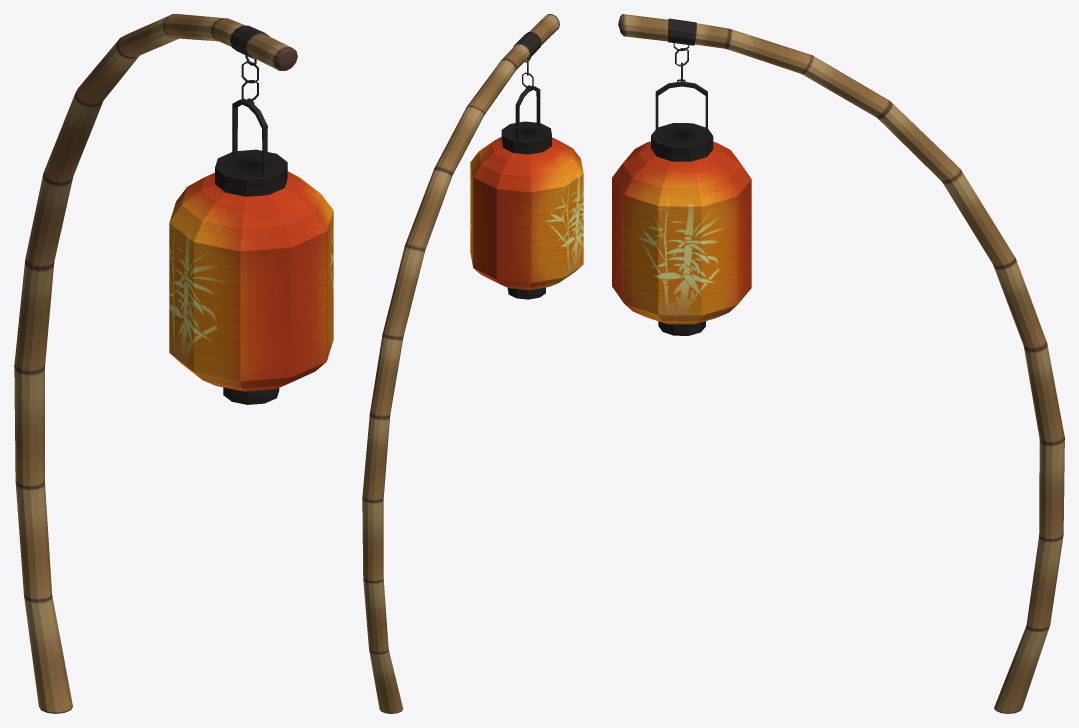
File: japanese_lanterns_01.glb
3 renders of one model, left to right at view 1: azimuth 30°, elevation 25°; view 2: azimuth 150°, elevation 25°; view 3: azimuth 270°, elevation 25°, orthographic. The views are drawn at different scales.
Visible parts, largest first — view 1: polySurface30; view 2: polySurface30; view 3: polySurface30.
Part boxes in pixels (x1=…): polySurface30: x1=14, y1=14, x2=333, y2=713; polySurface30: x1=362, y1=14, x2=583, y2=713; polySurface30: x1=612, y1=14, x2=1064, y2=713.
Bounding box in the file's own units: 0.7724 × 4.4 × 2.61.
Materials: 1 (1 with a texture image).
